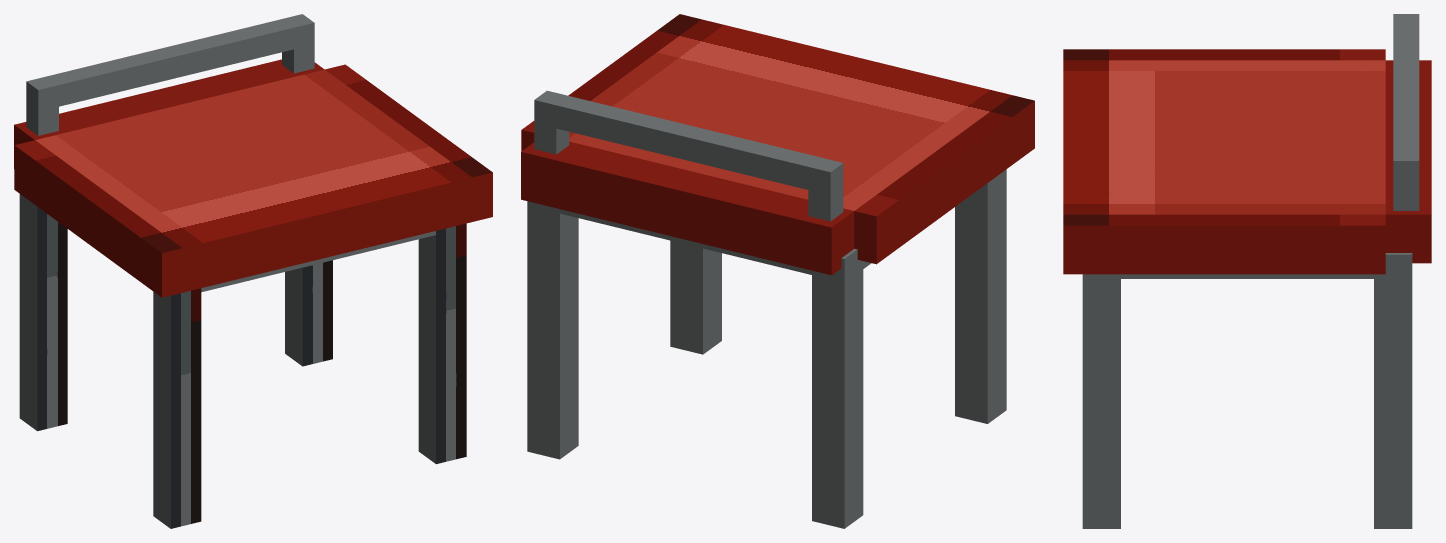
Rendered from metal_stool.glb.
3 views of the same model, side by side, from view 1: azimuth 30°, elevation 25°; view 2: azimuth 150°, elevation 25°; view 3: azimuth 270°, elevation 25° (orthographic). The views are drawn at different scales.
Visible parts, largest first — view 1: Seat, metal_stool_Welded_Stool_Frame; view 2: Seat, metal_stool_Welded_Stool_Frame; view 3: Seat, metal_stool_Welded_Stool_Frame.
Part boxes in pixels (x1,y1,x2,y2): Seat: (14, 59, 492, 297); metal_stool_Welded_Stool_Frame: (19, 14, 466, 528); Seat: (521, 14, 1034, 275); metal_stool_Welded_Stool_Frame: (527, 90, 1006, 528); Seat: (1063, 49, 1431, 274); metal_stool_Welded_Stool_Frame: (1082, 14, 1419, 528).
Bounding box in the file's own units: 0.544 × 0.522 × 0.48.
1 material, 1 textured.
